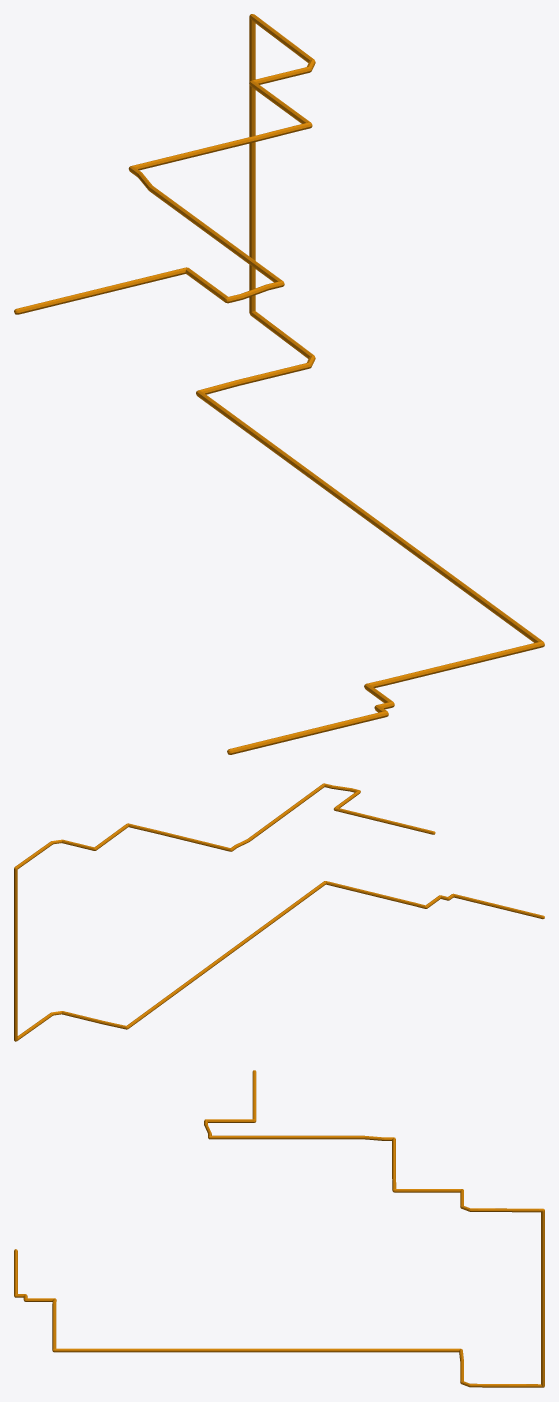
3 renders of one model, top to bottom at view 1: azimuth 30°, elevation 25°; view 2: azimuth 150°, elevation 25°; view 3: azimuth 270°, elevation 25°, orthographic. The views are drawn at different scales.
Size of the model in its own units: 1713 by 1020 by 2742.
